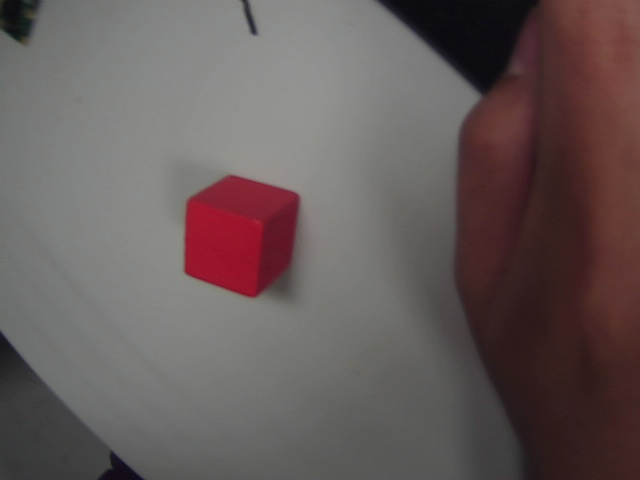redbox: (173, 165, 310, 299)
